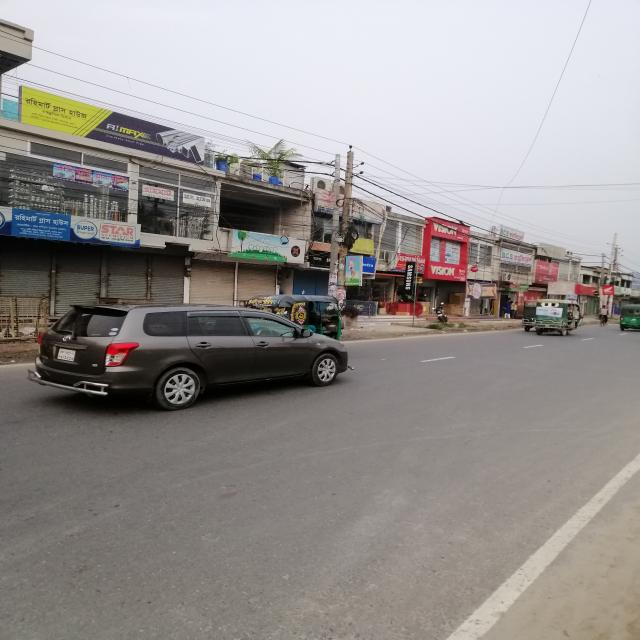Car: (31, 301, 359, 413)
